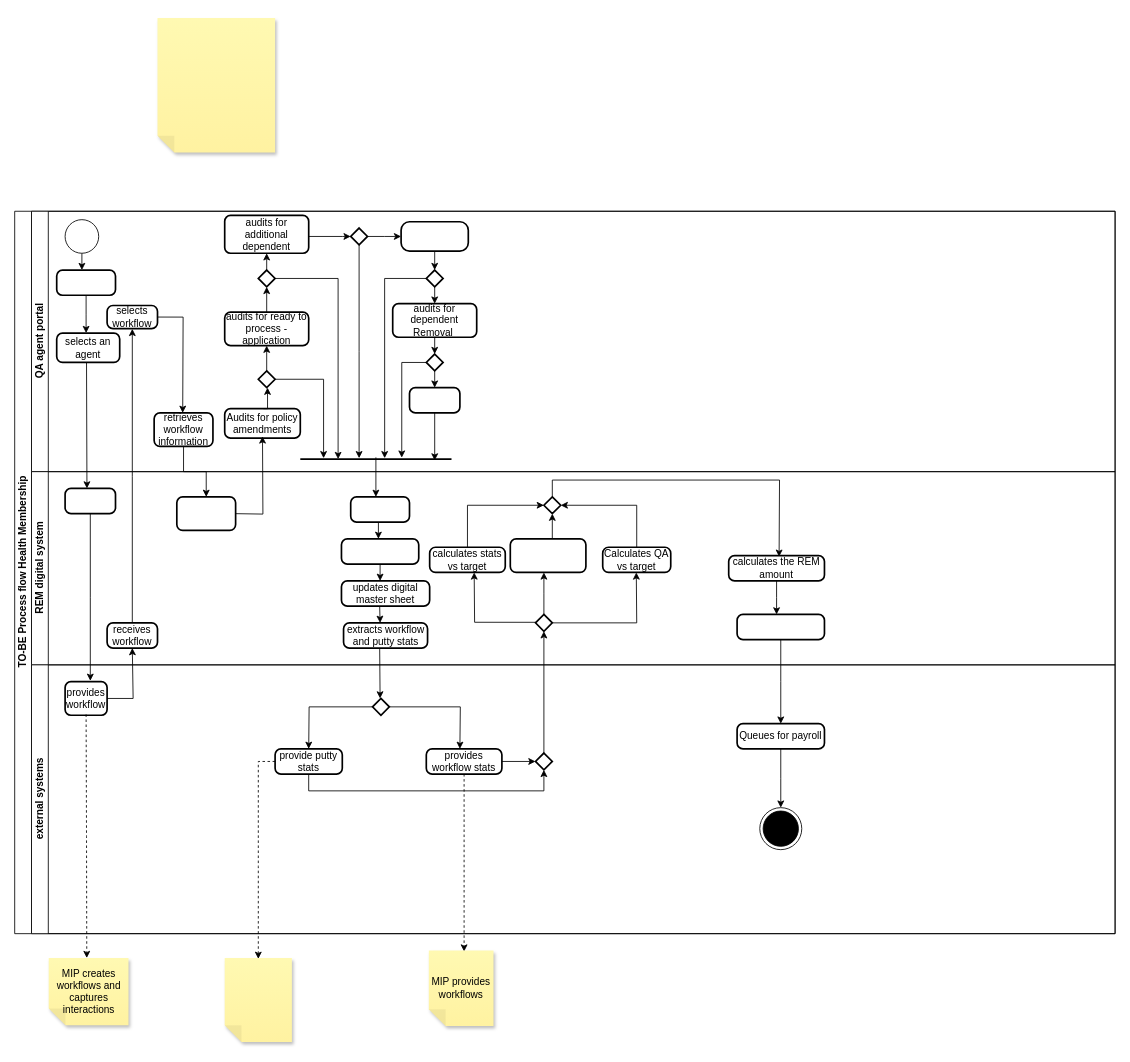
This 1130x1062 diagram has some shape labels left out. The centre of each missing label's shape, as x and y in pixels:
audits for cancellation: the point at 434,236
audits for queries: the point at 434,399
calculates agent scores: the point at 379,551
calculates days worked vs production days: the point at 547,555
captures general information: the point at 206,513
Jasper provides putty stats: the point at 259,1000
retrieves workflow: the point at 90,500
sends to team leader/manager: the point at 780,626
start: the point at 81,236
update scorecard: the point at 379,509
views agent list: the point at 85,282
